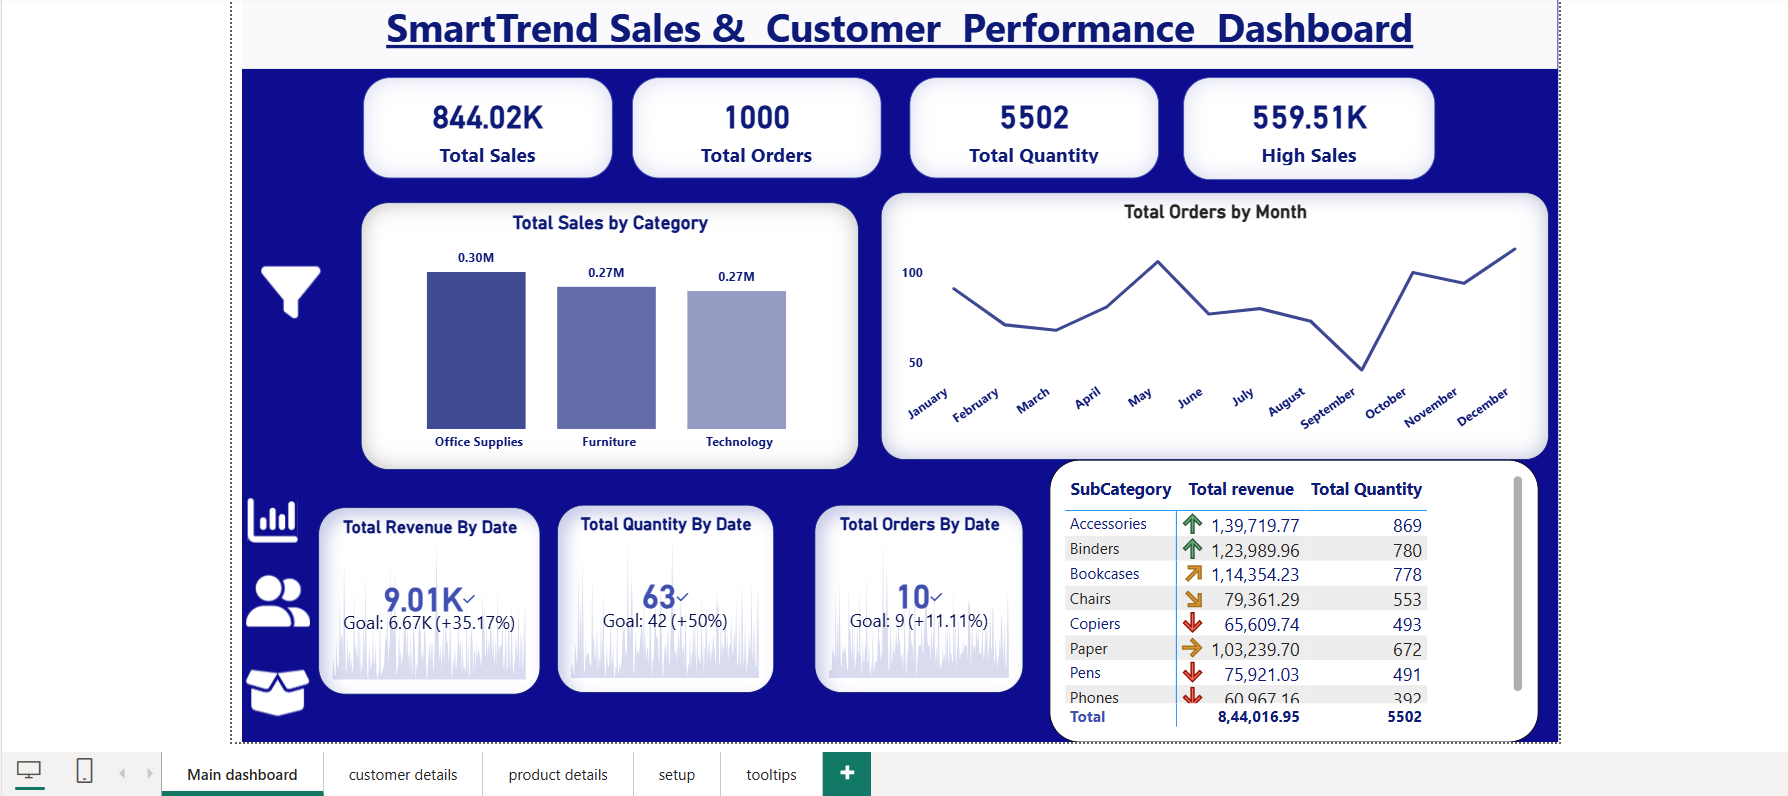

Layout of this report page (visuals, bound fields, positions):
{"tool":"powerbi","page":{"name":"Main dashboard","canvas":[1280,720],"ordinal":0},"visuals":[{"type":"image","box":[9.7,0,1270.4,720.2],"z":0},{"type":"card","fields":{"Values":["New Mesure.Total Sales"]},"box":[127,77.9,240.7,97.6],"z":0,"group":"g1"},{"type":"textbox","box":[10.1,0,1269.6,70.7],"z":1000},{"type":"card","fields":{"Values":["New Mesure.Total Orders"]},"box":[386.7,77.9,240.9,97.7],"z":1000,"group":"g1"},{"type":"card","fields":{"Values":["New Mesure.Total Quantity"]},"box":[653.7,77.9,240.9,97.7],"z":2000,"group":"g1"},{"type":"columnChart","fields":{"Category":["Product_Dim.Category"],"Y":["New Mesure.Total Sales"]},"box":[124.1,199.1,480.4,258.3],"z":2000},{"type":"card","fields":{"Values":["New Mesure.High Sales"]},"box":[918.6,78.1,243.5,98.8],"z":3000,"group":"g1"},{"type":"lineChart","fields":{"Category":["Date_Dim.Date.Variation.Date Hierarchy.Month"],"Y":["New Mesure.Total Orders"]},"box":[626.2,189,644.9,258.3],"z":3000},{"type":"group","id":"g1","title":"Group 1","box":[127,77.9,1035.9,99.6],"z":4000},{"type":"kpi","title":"Total Revenue By Date","fields":{"Goal":["New Mesure.Previous Month Revenue"],"Indicator":["New Mesure.Total revenue"],"TrendLine":["Date_Dim.Date"]},"box":[83.2,493.4,214.7,181],"z":5000},{"type":"kpi","title":"Total Quantity By Date","fields":{"Goal":["New Mesure.Previous Month Quantity"],"Indicator":["New Mesure.Total Quantity"],"TrendLine":["Date_Dim.Date"]},"box":[313.1,490.5,209.2,181.8],"z":6000},{"type":"kpi","title":"Total Orders By Date","fields":{"Goal":["New Mesure.Previous month order"],"Indicator":["New Mesure.Total Orders"],"TrendLine":["Date_Dim.Date"]},"box":[562.7,490.5,202,181.8],"z":7000},{"type":"pivotTable","fields":{"Rows":["Product_Dim.SubCategory"],"Values":["New Mesure.Total revenue","New Mesure.Total Quantity"]},"box":[789.2,447.3,471.8,272.7],"z":8000},{"type":"actionButton","box":[9.7,548.9,73.6,70],"z":9000},{"type":"actionButton","box":[9.7,638.2,100.1,68.8],"z":10000},{"type":"actionButton","box":[10.9,477.8,98.9,56.7],"z":11000},{"type":"actionButton","box":[23.6,253.7,99.7,65.2],"z":12000}]}

Visuals, with their boxes on the page's 1280x720 design canvas (x1, y1, x2, y2). These are canvas units, not pixel positions in the 1788x796 screenshot, which may show the page scaled, cropped or inside an application window:
image: rect(10, 0, 1280, 720)
card - New Mesure.Total Sales: rect(127, 78, 368, 176)
textbox: rect(10, 0, 1280, 71)
card - New Mesure.Total Orders: rect(387, 78, 628, 176)
card - New Mesure.Total Quantity: rect(654, 78, 895, 176)
columnChart - Product_Dim.Category x New Mesure.Total Sales: rect(124, 199, 604, 457)
card - New Mesure.High Sales: rect(919, 78, 1162, 177)
lineChart - Date_Dim.Date.Variation.Date Hierarchy.Month x New Mesure.Total Orders: rect(626, 189, 1271, 447)
"Group 1" group: rect(127, 78, 1163, 178)
"Total Revenue By Date" kpi: rect(83, 493, 298, 674)
"Total Quantity By Date" kpi: rect(313, 490, 522, 672)
"Total Orders By Date" kpi: rect(563, 490, 765, 672)
pivotTable - Product_Dim.SubCategory x New Mesure.Total revenue: rect(789, 447, 1261, 720)
actionButton: rect(10, 549, 83, 619)
actionButton: rect(10, 638, 110, 707)
actionButton: rect(11, 478, 110, 534)
actionButton: rect(24, 254, 123, 319)
